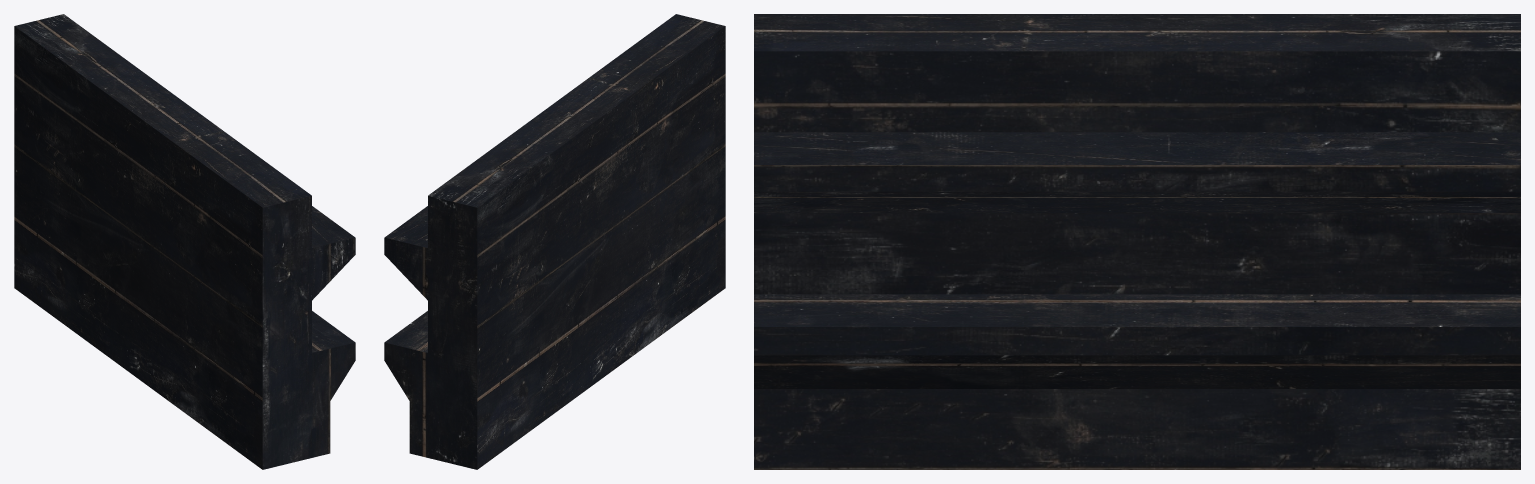
File: BarSmth.fbx
3 views of the same model, side by side, from view 1: azimuth 30°, elevation 25°; view 2: azimuth 150°, elevation 25°; view 3: azimuth 270°, elevation 25° (orthographic). The views are drawn at different scales.
Visible parts, largest first — view 1: Bar Shell; view 2: Bar Shell; view 3: Bar Shell.
Part boxes in pixels (x1,y1,x2,y2): Bar Shell: [14, 14, 355, 469]; Bar Shell: [384, 14, 725, 469]; Bar Shell: [754, 14, 1520, 469].
Bounding box in the file's own units: 98.29 × 265 × 455.
